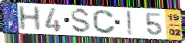4: (44, 7, 63, 34)
5: (144, 12, 164, 36)
C: (92, 9, 117, 35)
H: (17, 4, 43, 32)
I: (126, 10, 134, 37)
S: (70, 7, 92, 35)
